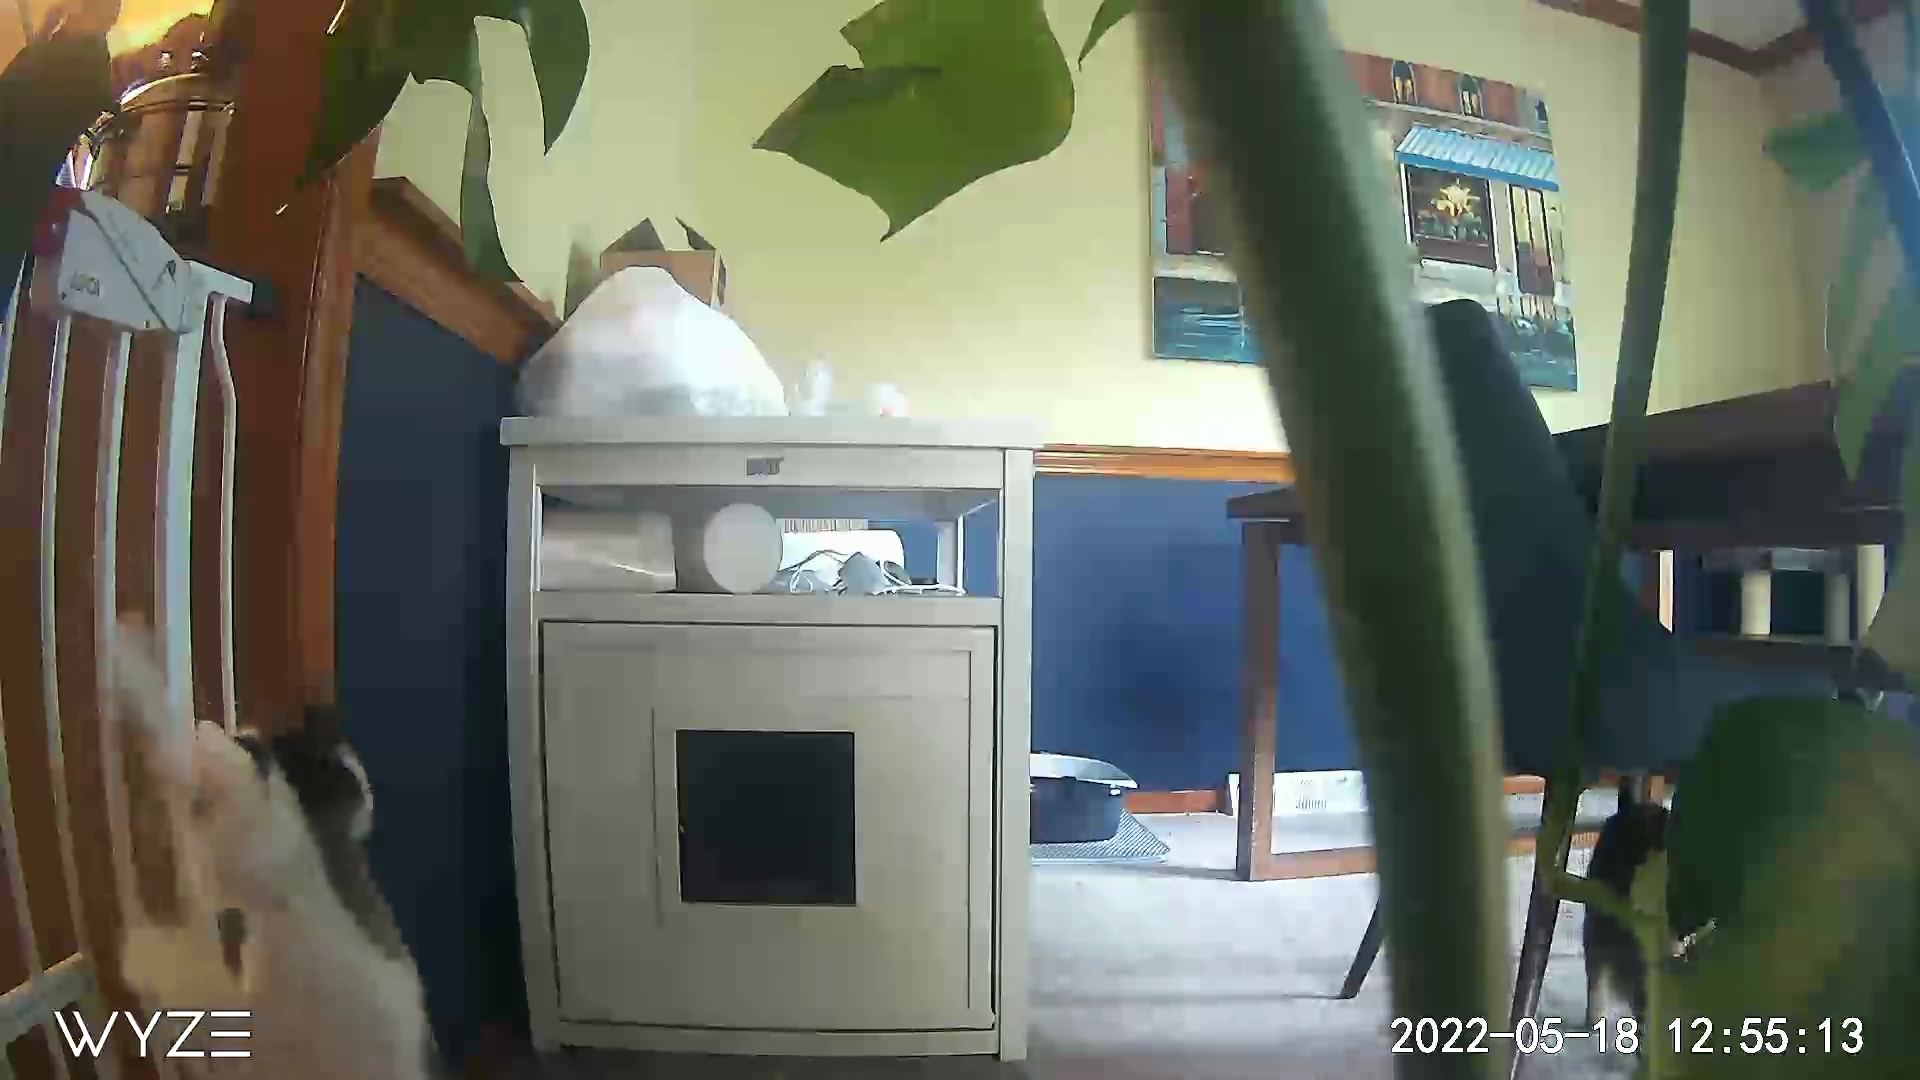maoxin: (83, 618, 411, 1004)
